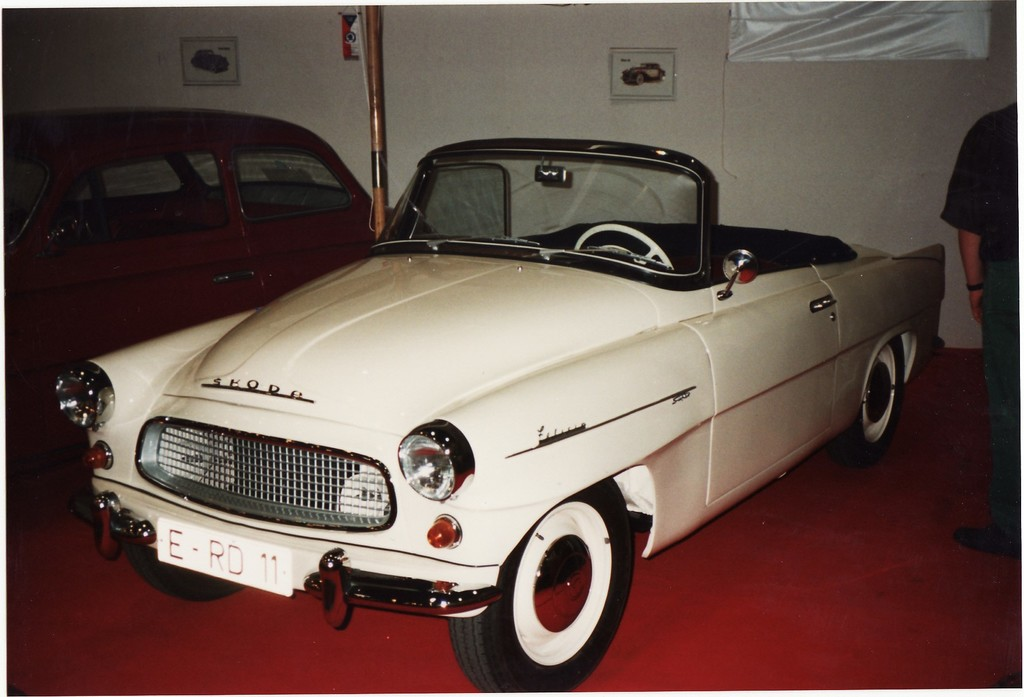mobil: (127, 142, 959, 665)
